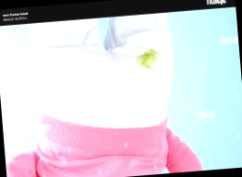earth: (136, 49, 158, 70)
